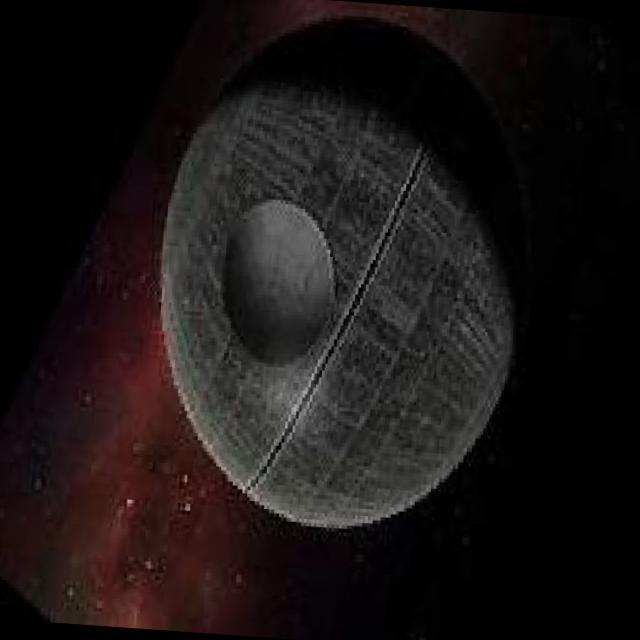Death Star: (150, 8, 547, 532)
